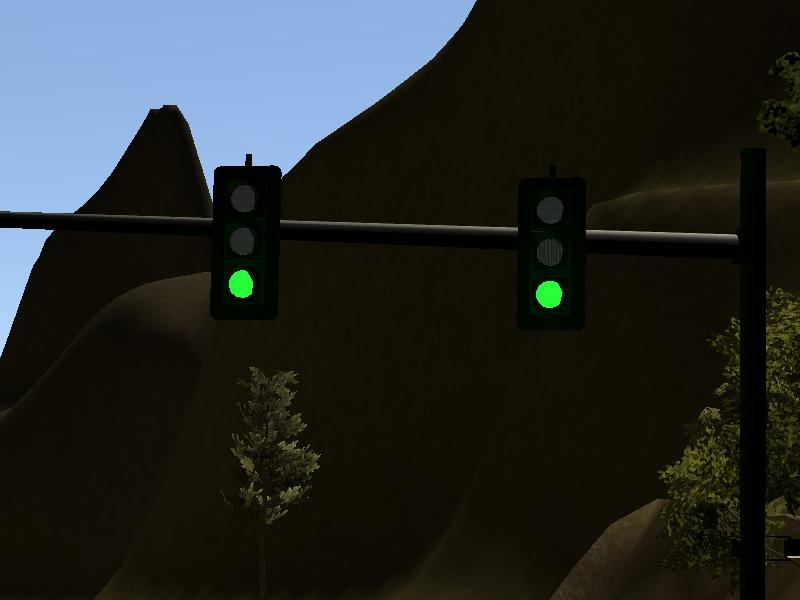green: (498, 156, 592, 336), (207, 143, 283, 329)
